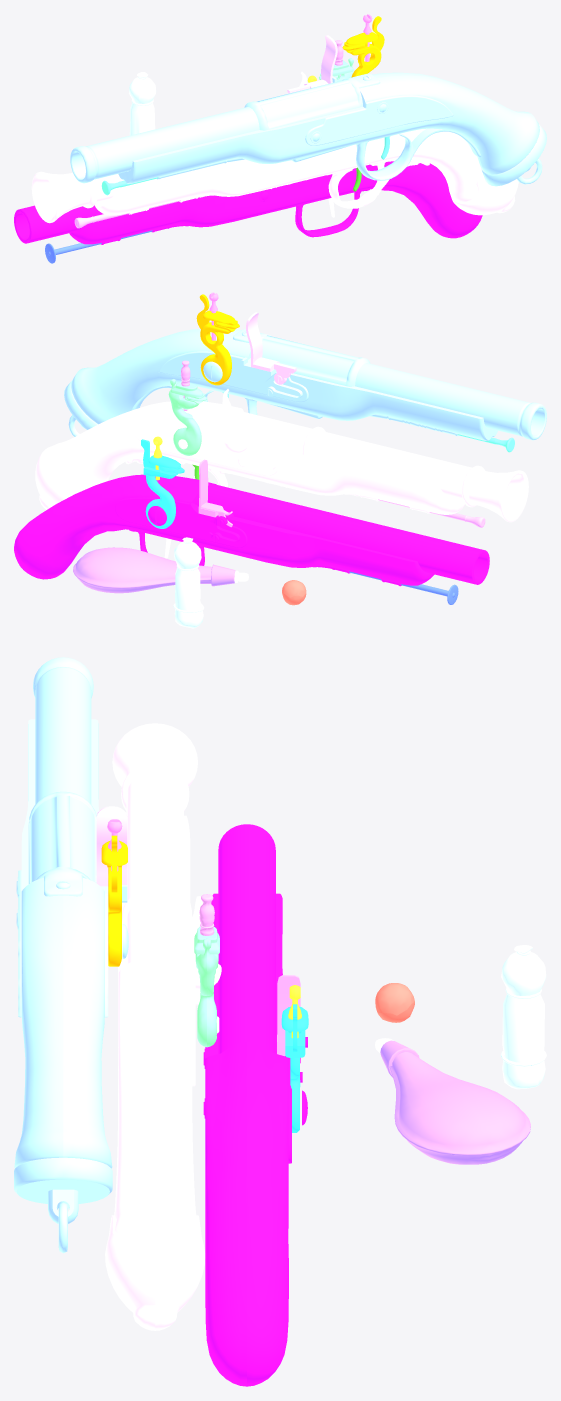
The model's file is Pistols_Fix.fbx.
The picture shows the model from 3 angles, top to bottom: view 1: azimuth 30°, elevation 25°; view 2: azimuth 150°, elevation 25°; view 3: azimuth 270°, elevation 25°; orthographic projection. The views are drawn at different scales.
Parts seen in each view (by area): view 1: 004-0-4, 010-0-10, 016-0-16, 002-0-2, 008-0-8, 007-0-7, 017-0-17, 014-0-14, 011-0-11; view 2: 010-0-10, 016-0-16, 004-0-4, 000-0-0, 002-0-2, 008-0-8, 014-0-14, 020-0-20, 007-0-7, 013-0-13, 019-0-19, 003-0-3 (+1 smaller); view 3: 010-0-10, 004-0-4, 016-0-16, 000-0-0, 002-0-2, 014-0-14, 008-0-8, 020-0-20, 007-0-7, 003-0-3, 019-0-19.
Part boxes in pixels (left/top/right/bottom): 004-0-4: left=70, top=72, right=546, bottom=186; 010-0-10: left=31, top=128, right=518, bottom=223; 016-0-16: left=14, top=161, right=482, bottom=244; 002-0-2: left=129, top=72, right=156, bottom=135; 008-0-8: left=342, top=16, right=384, bottom=77; 007-0-7: left=287, top=35, right=337, bottom=93; 017-0-17: left=45, top=230, right=152, bottom=263; 014-0-14: left=319, top=58, right=354, bottom=81; 011-0-11: left=74, top=200, right=180, bottom=228; 010-0-10: left=35, top=401, right=528, bottom=522; 016-0-16: left=14, top=474, right=489, bottom=586; 004-0-4: left=64, top=329, right=546, bottom=440; 000-0-0: left=73, top=547, right=235, bottom=593; 002-0-2: left=173, top=537, right=204, bottom=628; 008-0-8: left=196, top=294, right=239, bottom=385; 014-0-14: left=168, top=379, right=206, bottom=455; 020-0-20: left=141, top=439, right=184, bottom=528; 007-0-7: left=246, top=312, right=296, bottom=384; 013-0-13: left=222, top=389, right=267, bottom=455; 019-0-19: left=198, top=459, right=232, bottom=527; 003-0-3: left=282, top=580, right=306, bottom=605; 010-0-10: left=105, top=723, right=221, bottom=1330; 004-0-4: left=14, top=657, right=128, bottom=1253; 016-0-16: left=203, top=824, right=307, bottom=1386; 000-0-0: left=380, top=1040, right=530, bottom=1164; 002-0-2: left=500, top=945, right=546, bottom=1089; 014-0-14: left=194, top=926, right=219, bottom=1047; 008-0-8: left=101, top=835, right=127, bottom=966; 020-0-20: left=281, top=1004, right=308, bottom=1132; 007-0-7: left=96, top=806, right=127, bottom=886; 003-0-3: left=375, top=983, right=414, bottom=1022; 019-0-19: left=277, top=975, right=300, bottom=1056.
Bounding box in the file's own units: 1318 × 2198 × 1254.
